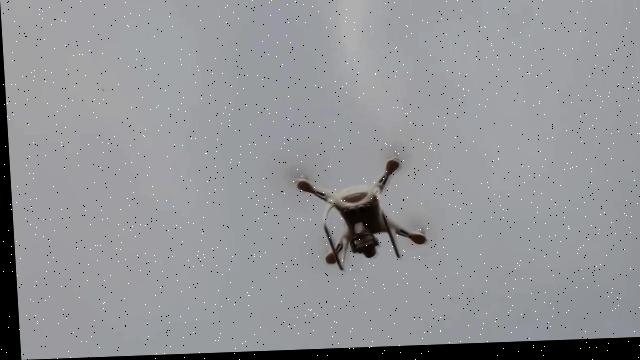drone: (241, 134, 508, 297)
